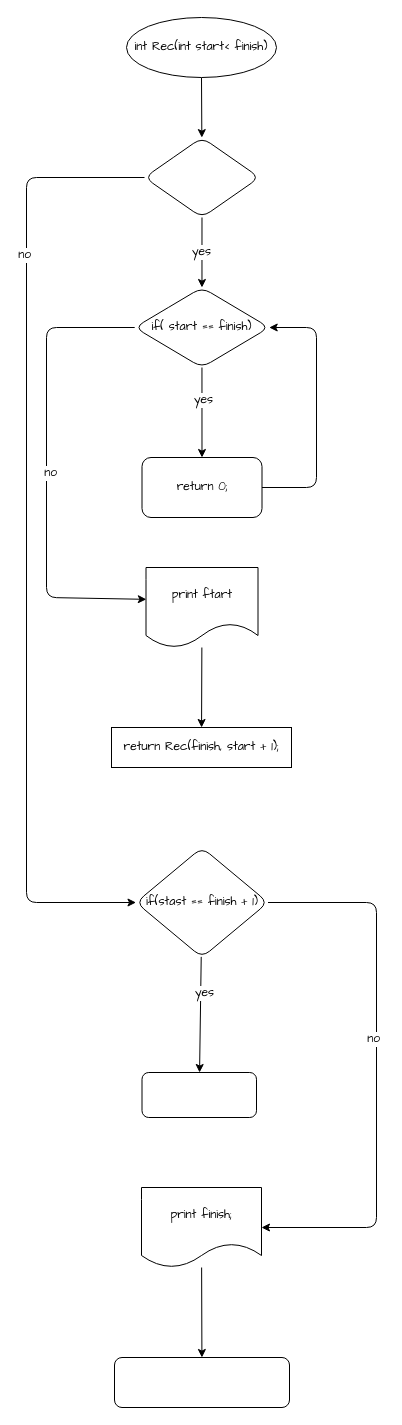
Image size: 402x1425. Some labels were removed from this diagram. Here are the shapes that lost their labels. From the top down, the centre of each, then its label:
At [202,177]: "if(start > finish)".
At [198,1095]: "return finish;".
At [202,1382]: "return Rec(start, finish - 1);".
